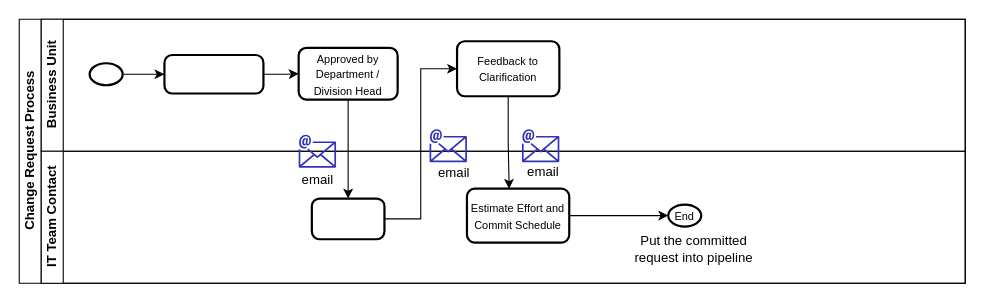
Some shapes in this 985 by 303 pixel diagram are drawn without their labels. Each missing label, with the box of its shape:
Clarify Requirement: (310, 197, 385, 240)
Request Change Request: (163, 53, 264, 94)
Start: (88, 62, 123, 86)
